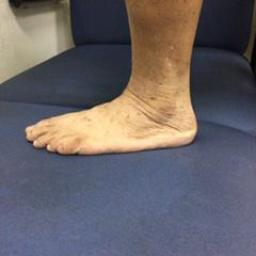Lateral View -Left Foot-: (20, 58, 204, 164)
